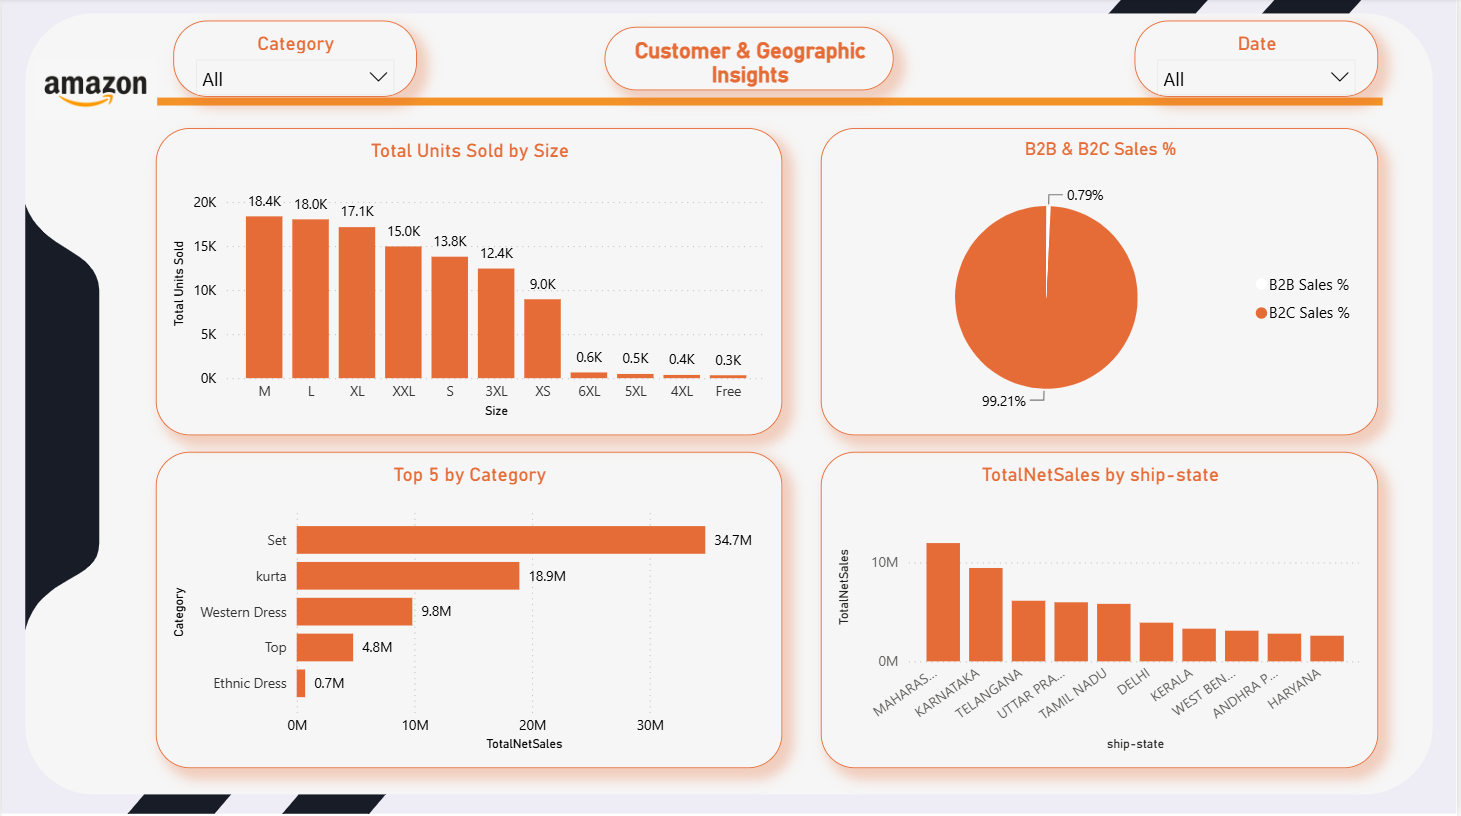

What the dashboard file says about the page in this screenshot:
{"tool":"powerbi","page":{"name":"Customer & Geographic Insights","canvas":[1280,720],"ordinal":1},"visuals":[{"type":"image","box":[28.6,46.4,107.1,67.9],"z":0},{"type":"pieChart","title":"B2B & B2C Sales %","fields":{"Y":["Sales.B2B Sales %","Sales.B2C Sales %"]},"box":[720.2,114.3,490.5,270.2],"z":1000},{"type":"barChart","title":"Top 5 by Category","fields":{"Category":["Amazon_Sale_Report.Category"],"Y":["Sales.TotalNetSales"]},"box":[135.7,398.8,551.2,278.6],"z":2000},{"type":"columnChart","fields":{"Category":["Amazon_Sale_Report.ship-state"],"Y":["Sales.TotalNetSales"]},"box":[720.2,398.8,490.5,278.6],"z":3000},{"type":"columnChart","fields":{"Y":["Sales.Total Units Sold"],"Category":["Amazon_Sale_Report.Size"]},"box":[135.7,114.3,551.2,270.2],"z":4000},{"type":"textbox","title":"Customer & Geographic Insights","box":[529.8,25,254.8,56],"z":5000}]}

Visuals, with their boxes in screenshot pixels (x1, y1, x2, y2), scaled from the page's 1280x720 canvas onto the 1461x816 screenshot:
image: 33, 53, 155, 130
"B2B & B2C Sales %" pieChart: 822, 130, 1382, 436
"Top 5 by Category" barChart: 155, 452, 784, 768
columnChart - Amazon_Sale_Report.ship-state x Sales.TotalNetSales: 822, 452, 1382, 768
columnChart - Sales.Total Units Sold x Amazon_Sale_Report.Size: 155, 130, 784, 436
"Customer & Geographic Insights" textbox: 605, 28, 896, 92
